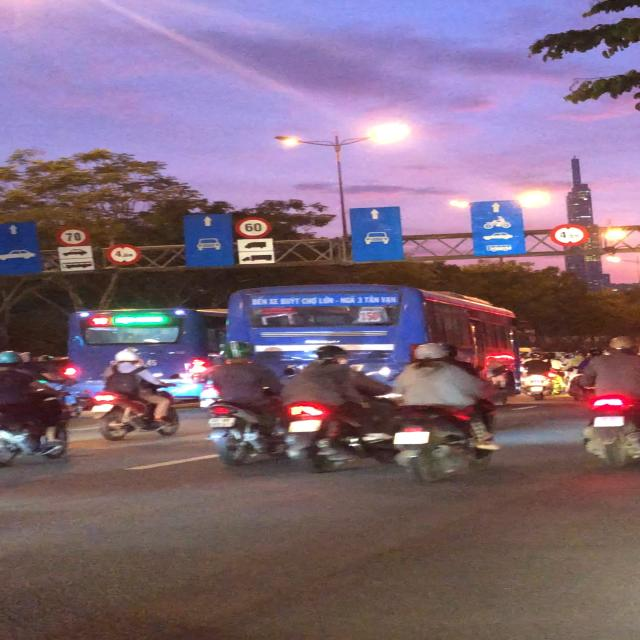Bien bao han che chieu cao: (548, 223, 590, 247), (105, 239, 143, 265)
Bien bao toc do toi da cho phep: (230, 216, 272, 238), (52, 227, 96, 246)
